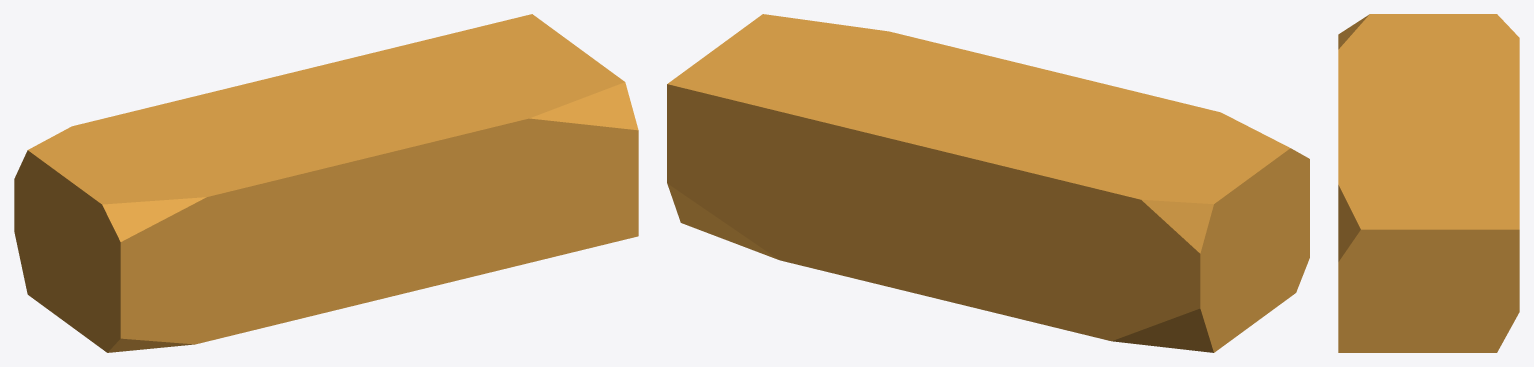
Rendered from egypt-stone-block-square.fbx.
3 renders of one model, left to right at view 1: azimuth 30°, elevation 25°; view 2: azimuth 150°, elevation 25°; view 3: azimuth 270°, elevation 25°, orthographic. The views are drawn at different scales.
Parts seen in each view (by area): view 1: egypt-stone-block-square; view 2: egypt-stone-block-square; view 3: egypt-stone-block-square.
Boxes of the visible parts, x1,y1,x2,y2 form: egypt-stone-block-square: (14,14,638,352); egypt-stone-block-square: (667,14,1309,352); egypt-stone-block-square: (1338,14,1519,352).
Size of the model in its own units: 9 by 2.4 by 3.2.
